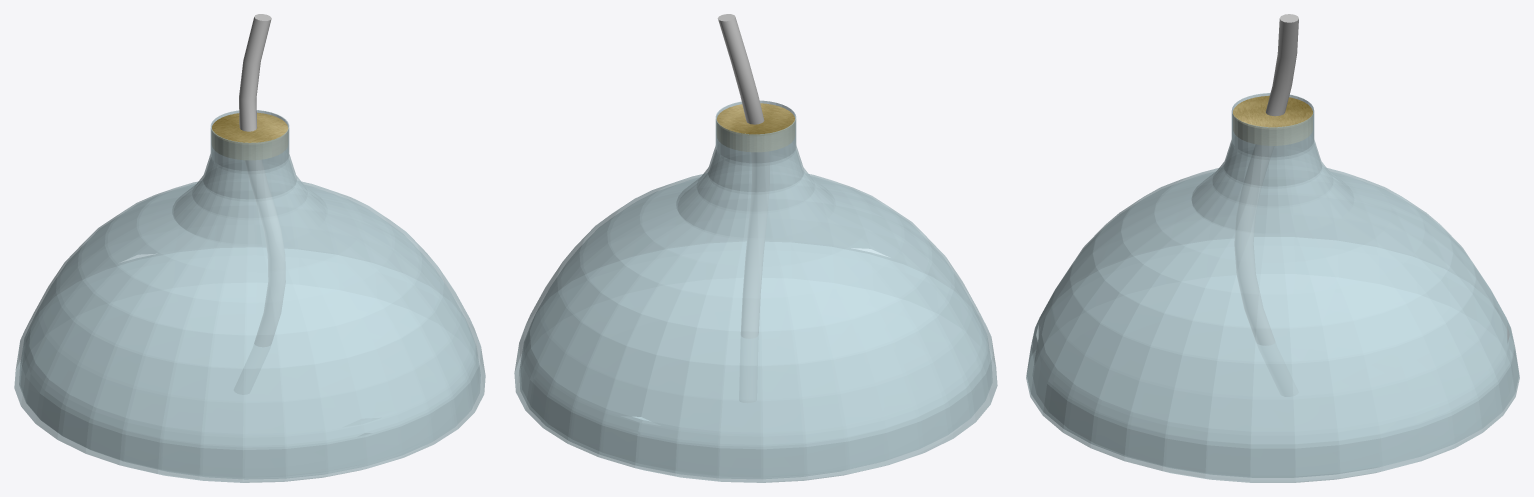
The model's file is torch_physical.fbx.
3 renders of one model, left to right at view 1: azimuth 30°, elevation 25°; view 2: azimuth 150°, elevation 25°; view 3: azimuth 270°, elevation 25°, orthographic. The views are drawn at different scales.
Visible parts, largest first — view 1: Torch_phys_body, Torch_phys_water, FITIL, zatychka; view 2: Torch_phys_body, Torch_phys_water, FITIL, zatychka; view 3: Torch_phys_body, Torch_phys_water, FITIL, zatychka.
Part boxes in pixels (x1=…): Torch_phys_body: x1=14, y1=110, x2=485, y2=482; Torch_phys_water: x1=21, y1=248, x2=478, y2=477; FITIL: x1=239, y1=14, x2=285, y2=347; zatychka: x1=212, y1=112, x2=288, y2=159; Torch_phys_body: x1=514, y1=100, x2=997, y2=482; Torch_phys_water: x1=521, y1=242, x2=990, y2=476; FITIL: x1=717, y1=14, x2=769, y2=338; zatychka: x1=716, y1=103, x2=794, y2=151; Torch_phys_body: x1=1026, y1=93, x2=1519, y2=482; Torch_phys_water: x1=1033, y1=237, x2=1512, y2=476; FITIL: x1=1234, y1=14, x2=1298, y2=345; zatychka: x1=1233, y1=95, x2=1312, y2=145.
Bounding box in the file's own units: 109 × 98.96 × 109.
